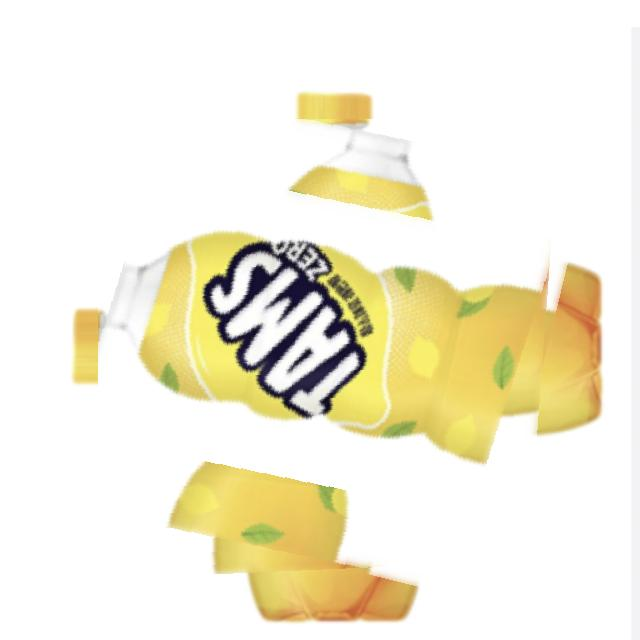recyclable: (98, 119, 562, 581)
